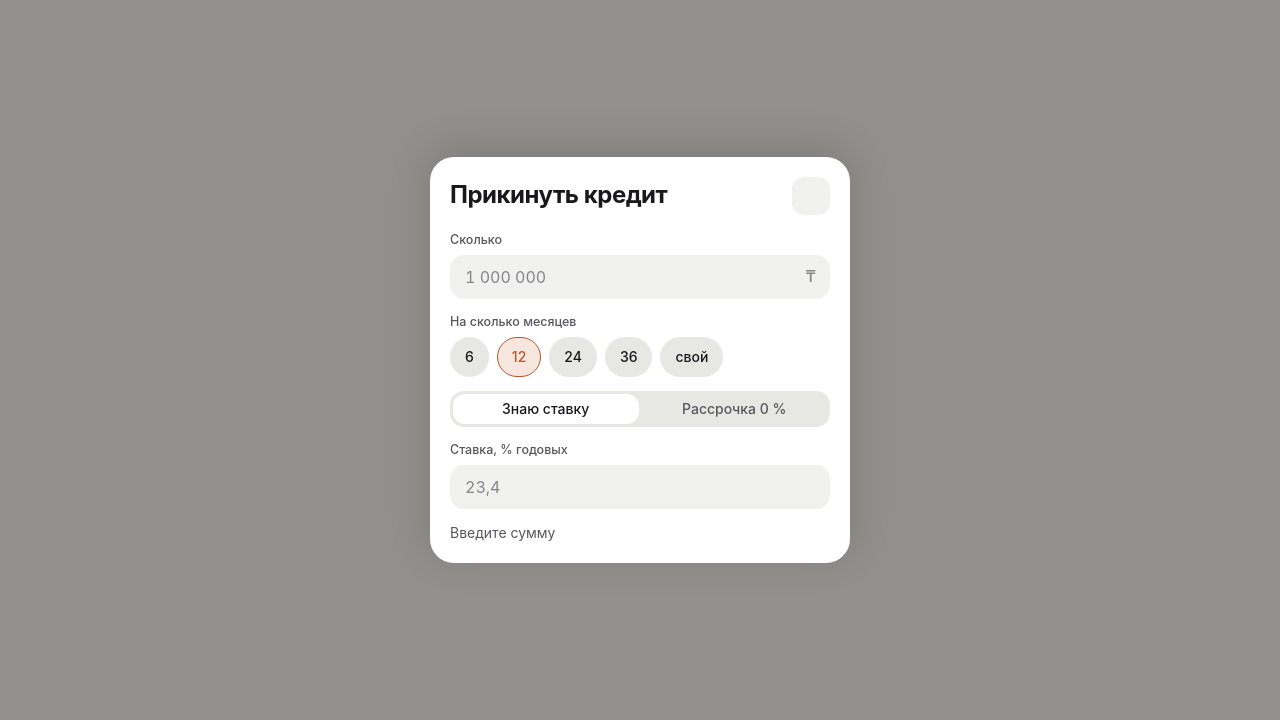
Test: PN-17: «Прикинуть кредит» › рассрочка 0 % — «Без переплаты», поля ставки нет; «свой» срок — своё число
In the field labelled "Сколько ₸": (640, 277) [450,255,830,299], type "600000"
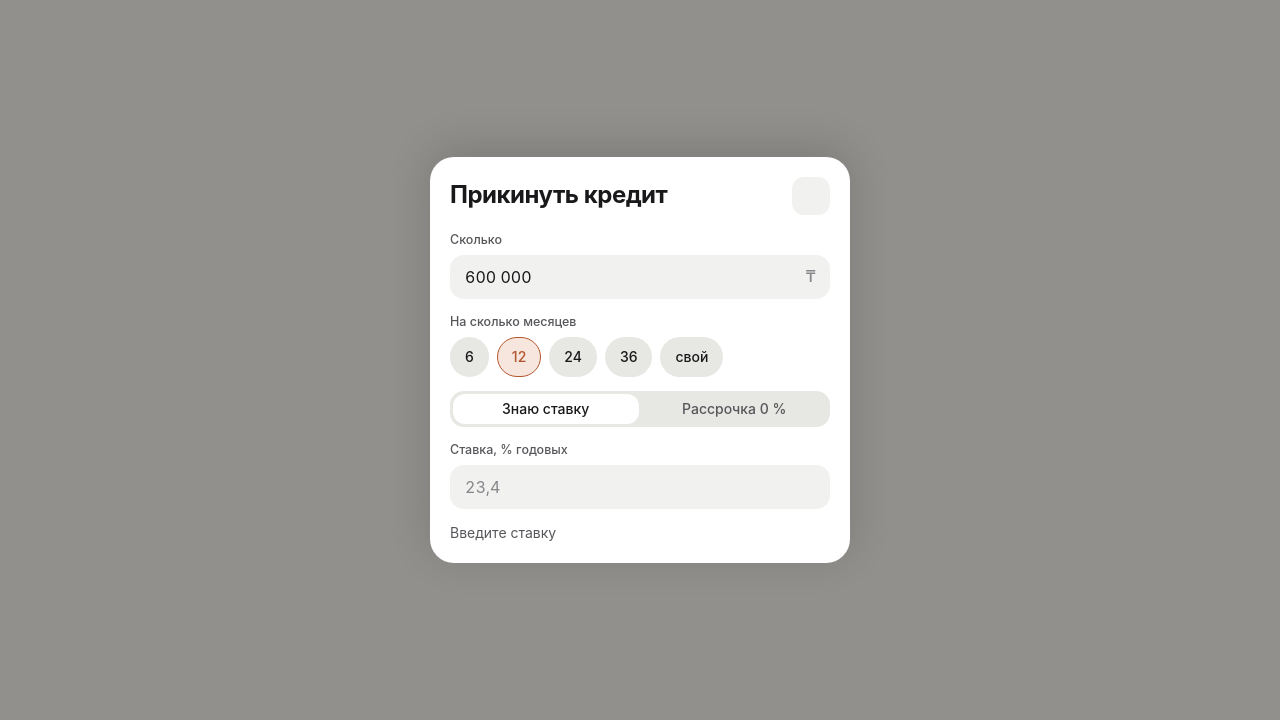
Click the button "Рассрочка 0 %": (734, 409) [642,394,827,424]
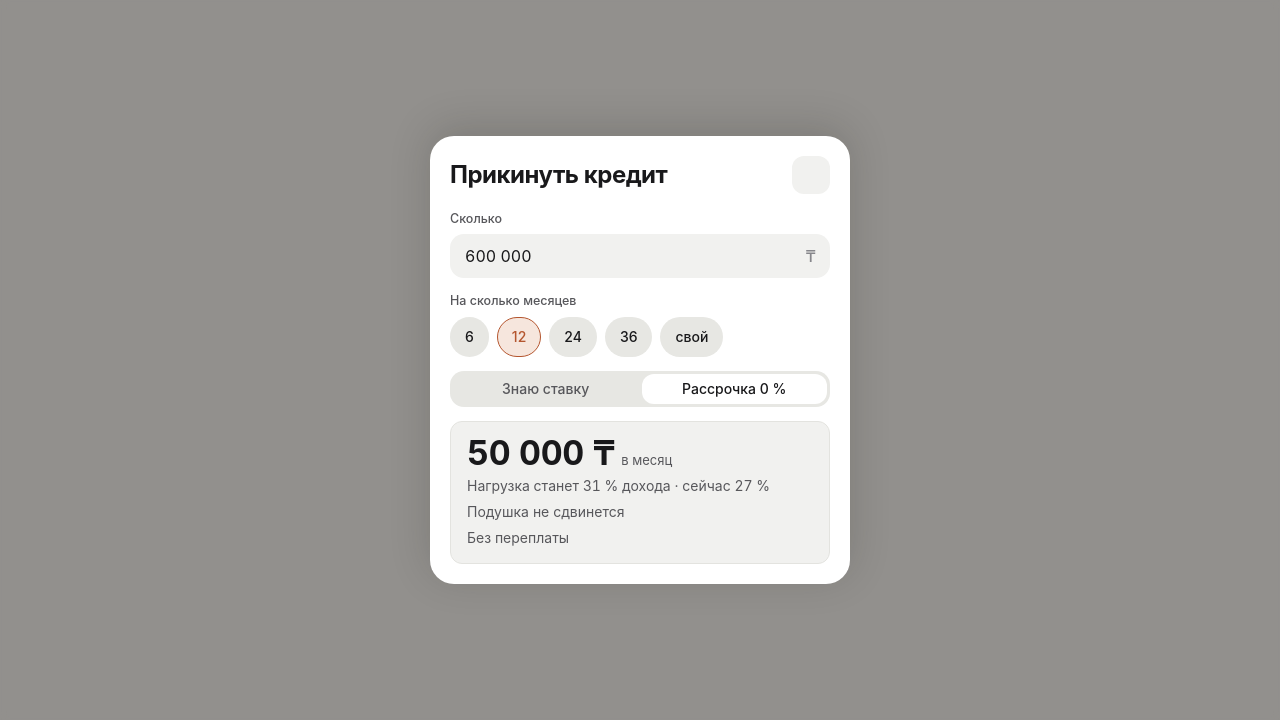
Click the button "свой": (692, 337) [660,316,723,357]
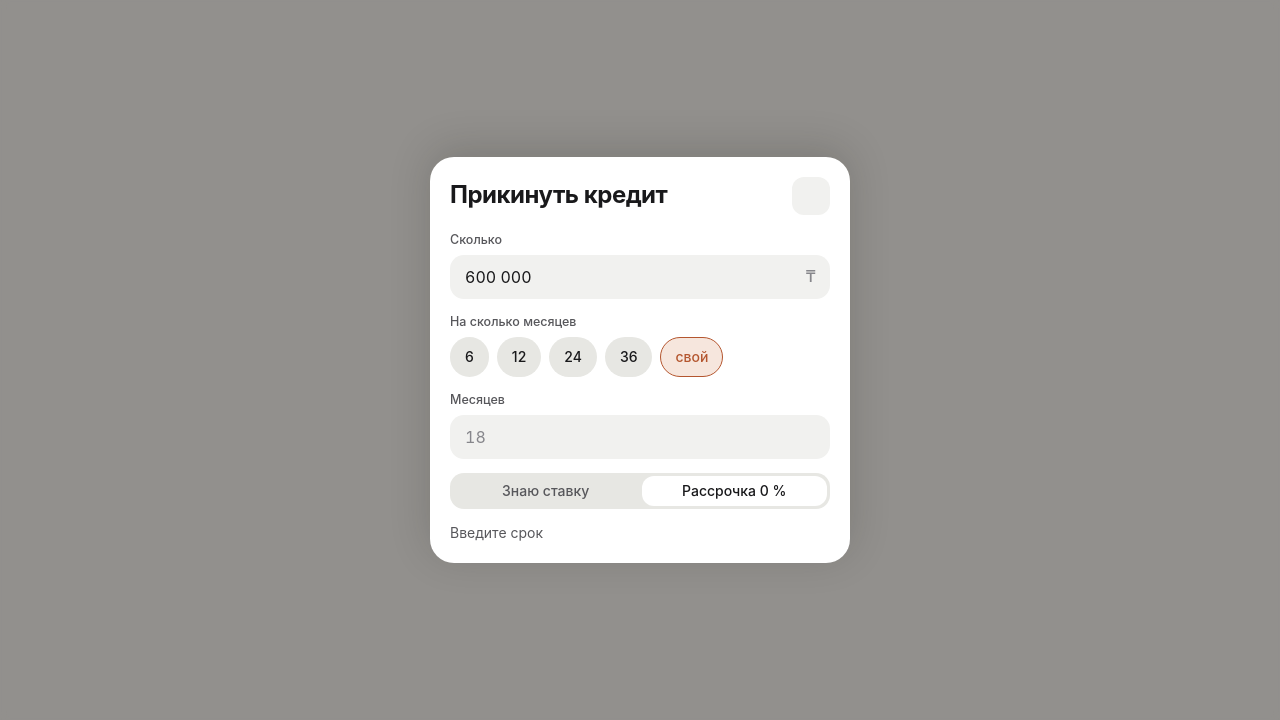
In the field labelled "Месяцев": (640, 437) [450,415,830,459], type "10"
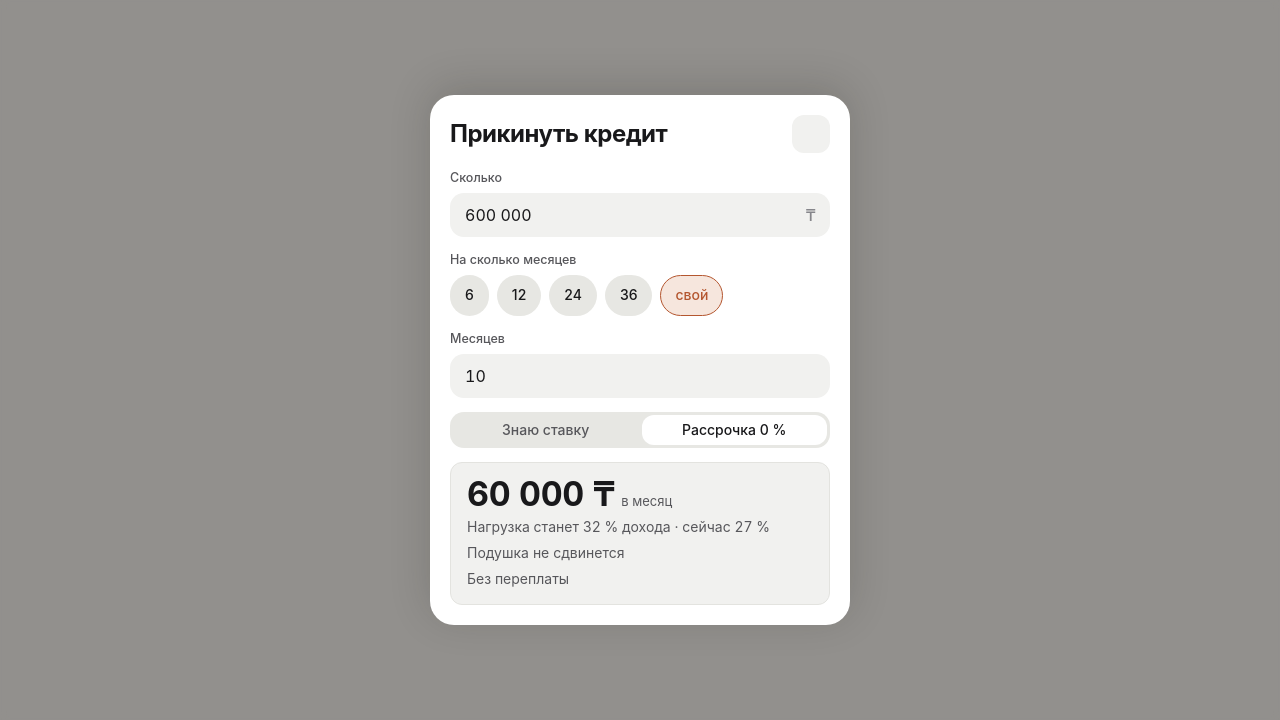
Now the text "Без переплаты" is shown, box [467,570,569,588]
